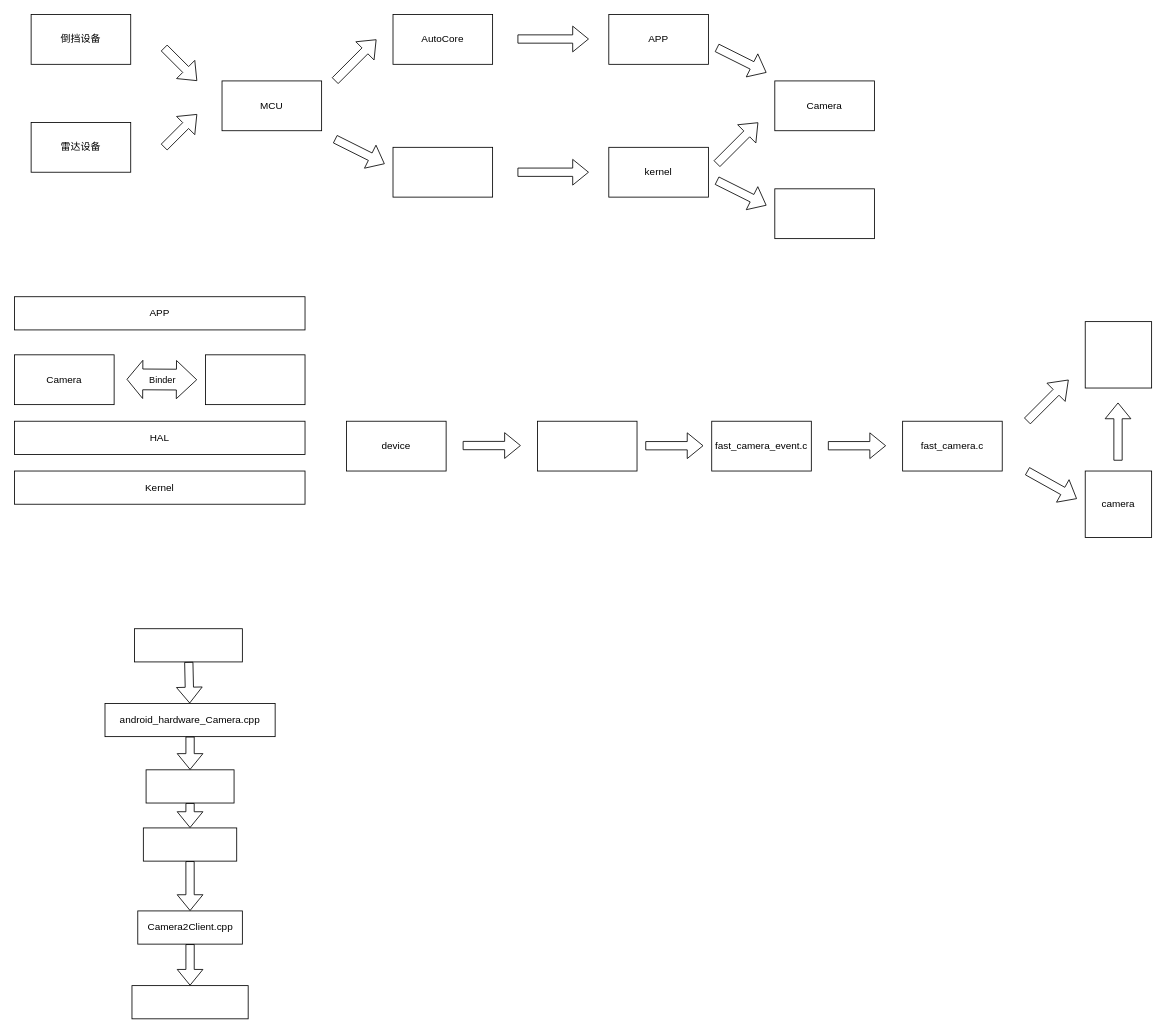
This 1166x1033 diagram has some shape labels left out. Here are the shapes that lost their labels. From the top down, the centre of each, then its label:
(x=442, y=171): tty
(x=824, y=213): Sound
(x=1118, y=354): 屏幕
(x=255, y=379): CameraService
(x=587, y=445): imc.c
(x=188, y=645): Camera.java
(x=189, y=786): camera.cpp
(x=190, y=844): CameraService.cpp
(x=189, y=1002): Camera2Device.cpp
